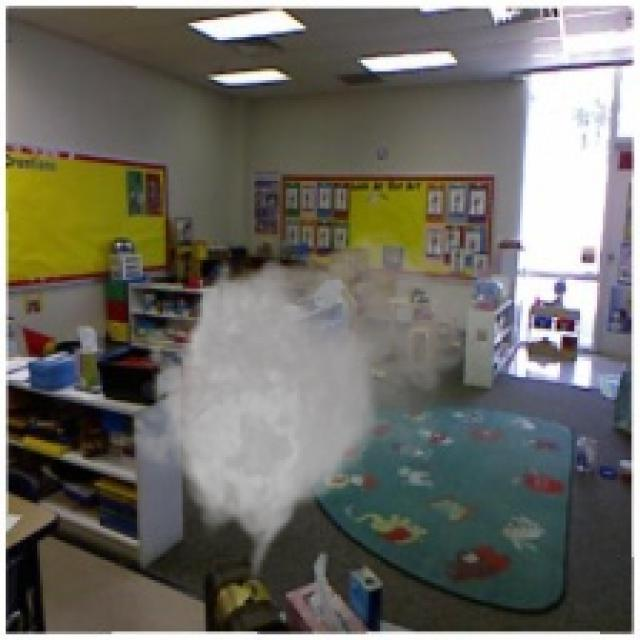Smoke: (117, 219, 520, 592)
